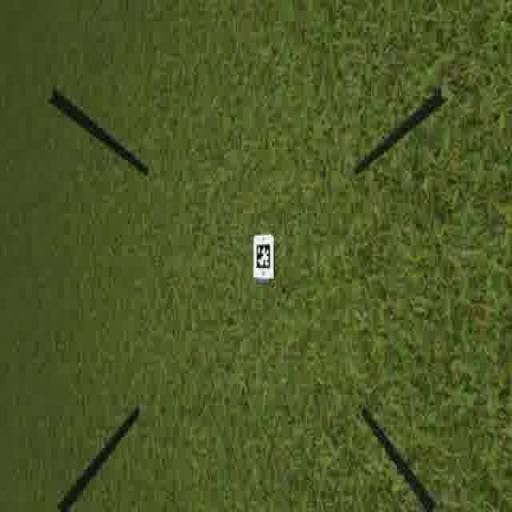UGV: (250, 230, 276, 281)
